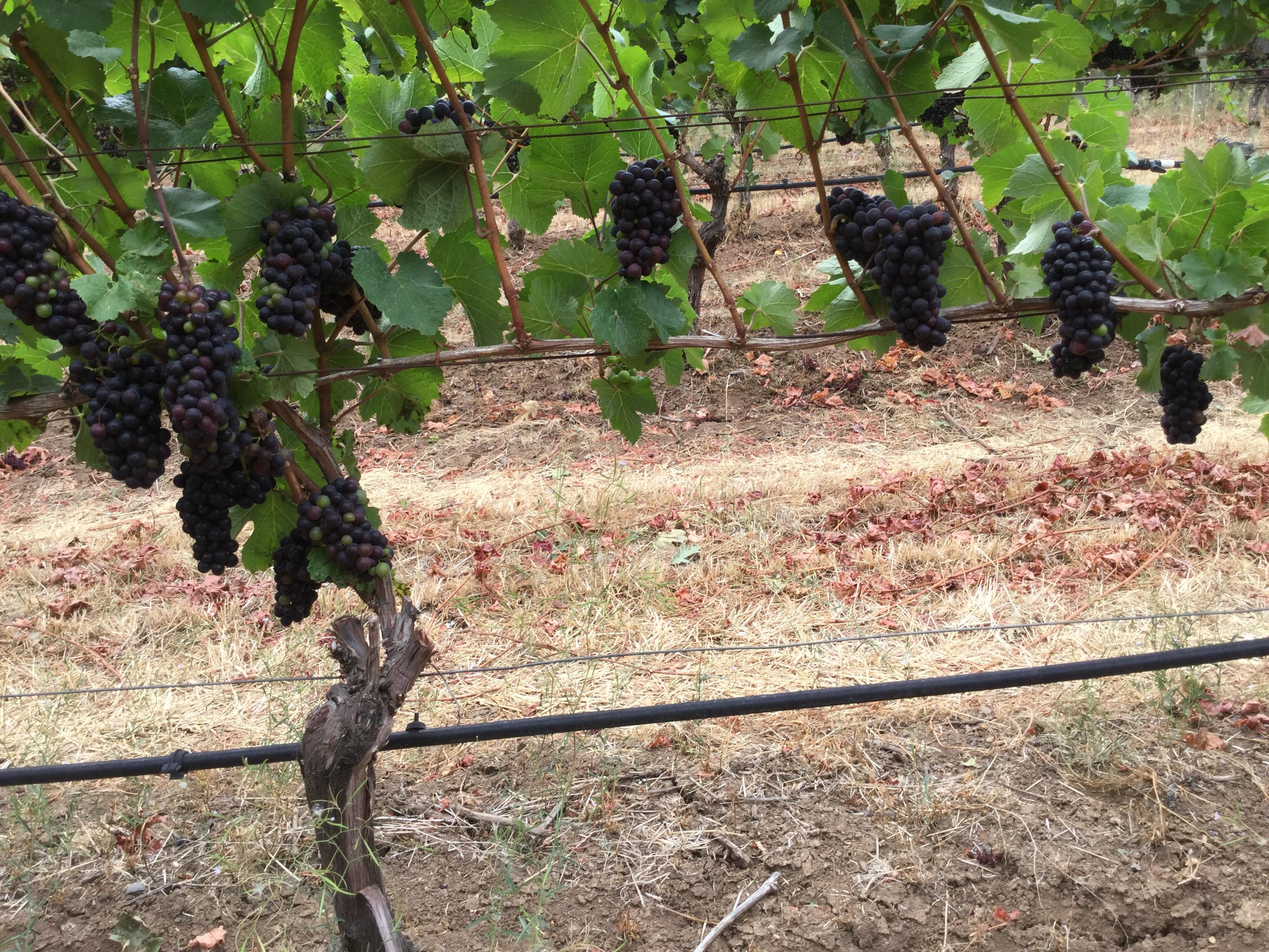leaf: (484, 0, 603, 118), (426, 224, 509, 345), (521, 134, 621, 220), (355, 250, 453, 336), (221, 172, 311, 262), (141, 66, 220, 149), (25, 20, 105, 101), (346, 72, 435, 136), (230, 489, 297, 571), (966, 0, 1046, 62), (433, 8, 500, 82), (589, 280, 652, 354), (294, 2, 343, 94), (590, 376, 656, 443), (1180, 247, 1265, 298), (254, 332, 316, 399), (520, 275, 584, 338), (728, 22, 803, 71), (737, 280, 799, 334), (636, 281, 690, 342), (71, 272, 136, 322), (162, 187, 224, 238), (537, 239, 617, 278), (938, 246, 988, 307), (30, 0, 113, 32), (934, 44, 988, 89), (335, 199, 382, 247), (1135, 324, 1168, 392), (94, 92, 136, 144), (662, 226, 697, 287), (73, 418, 110, 472), (67, 29, 124, 63), (228, 372, 273, 413), (1235, 345, 1268, 398), (1199, 340, 1237, 380), (178, 0, 243, 23), (803, 278, 846, 312), (0, 419, 43, 451), (881, 169, 910, 207), (242, 0, 274, 16), (145, 190, 160, 215), (989, 262, 998, 276), (570, 128, 584, 132), (425, 126, 432, 128), (133, 119, 134, 127), (481, 242, 483, 244), (631, 440, 633, 441), (592, 383, 593, 385), (398, 120, 399, 121), (121, 50, 121, 53)
